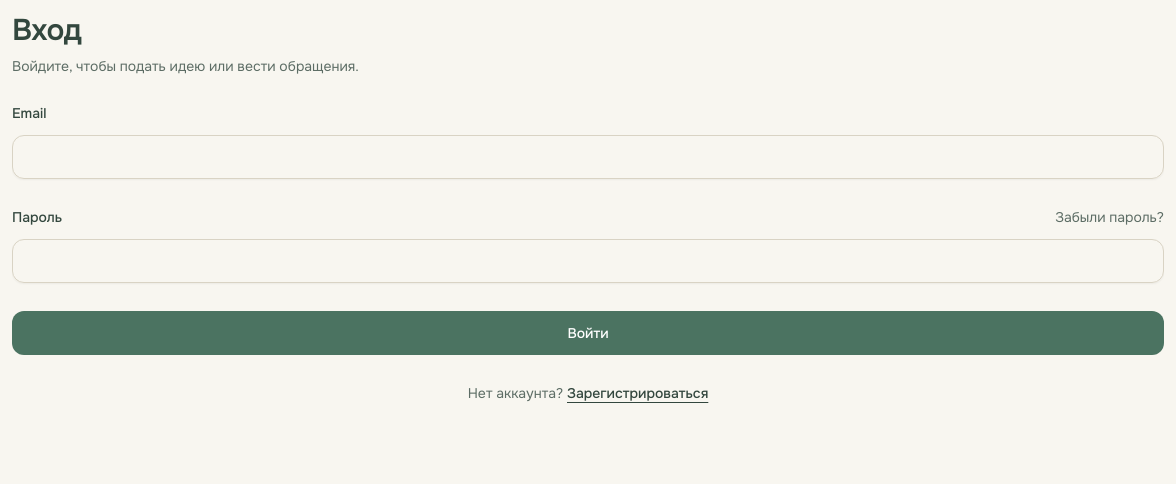
Scenario: LoginForm › показывает ошибку валидации и не отправляет запрос при коротком пароле
Type "user@example.com" into the field labelled "Email" at (588,157), box [12,135,1164,179]
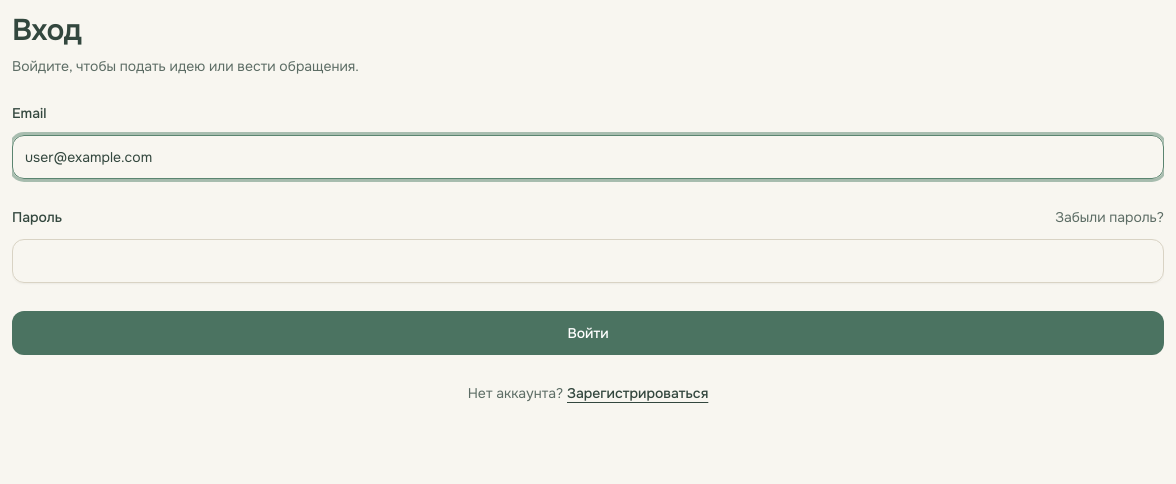
Type "123" into the password field labelled "Пароль" at (588,261), box [12,239,1164,283]
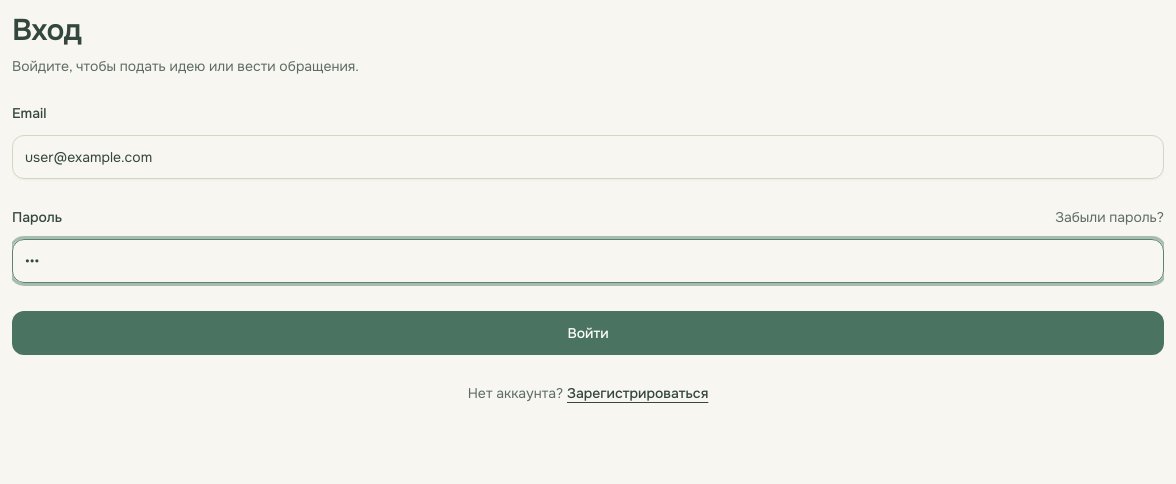
Click the button "Войти" at (588,333), box [12,311,1164,355]
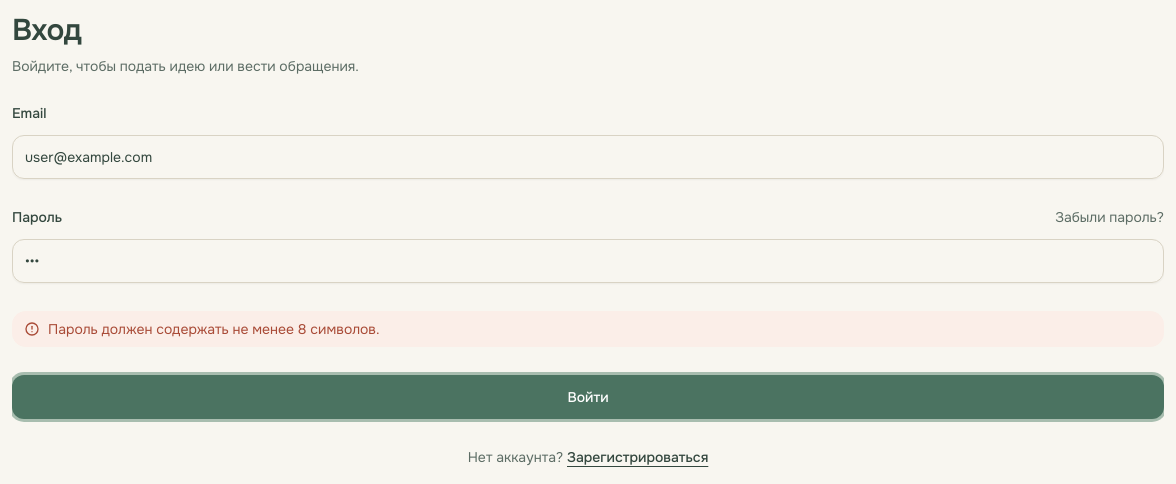
Result: the text "Пароль должен содержать не менее 8 символов." is shown at [48,319,380,339]
